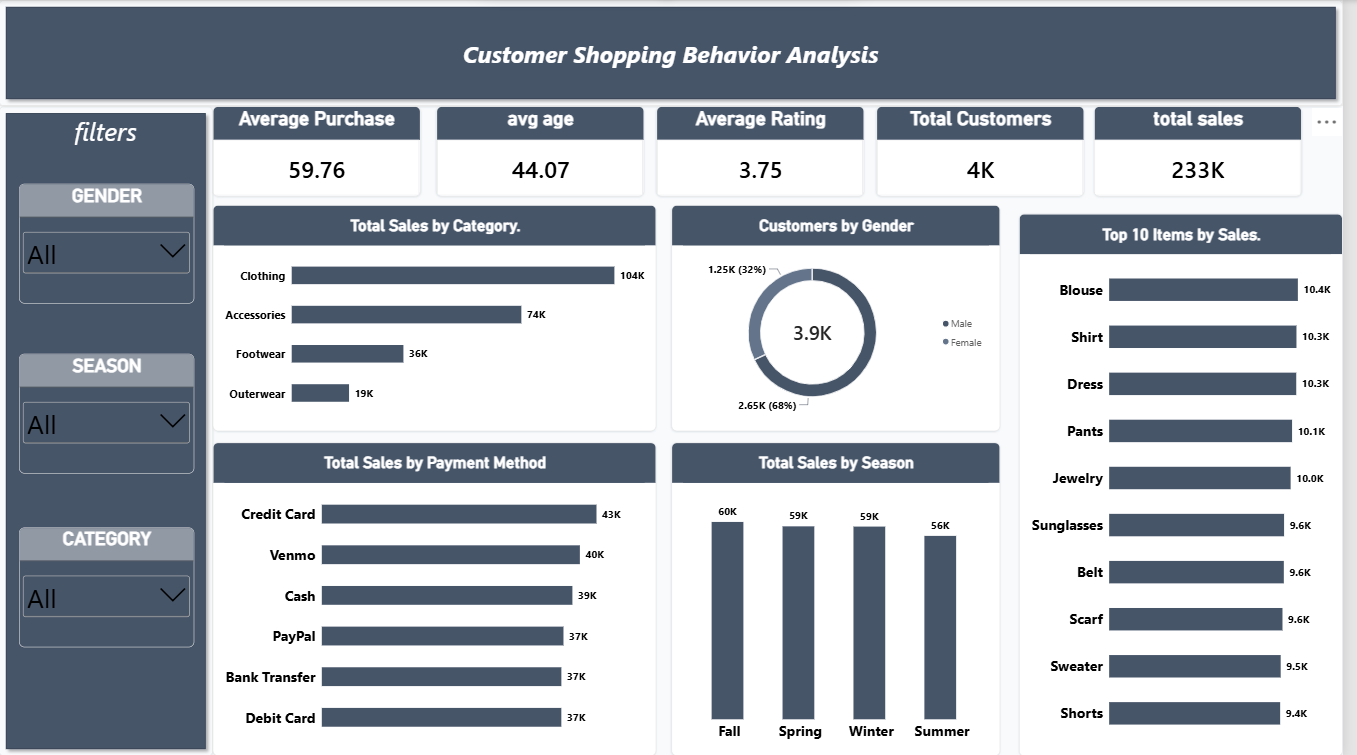

This screenshot's page, from the dashboard's own definition file:
{"tool":"powerbi","page":{"name":"Overview","canvas":[1920,1080],"ordinal":0},"visuals":[{"type":"shape","box":[0,0,1919.7,151.8],"z":0},{"type":"shape","box":[0,151.8,305.4,928.6],"z":1000},{"type":"cardVisual","title":"Average Purchase","fields":{"Data":["cleaned_Customer_Shopping.Average Purchase"]},"box":[305.4,151.8,296.4,128.6],"z":2000},{"type":"cardVisual","title":"Avg Age","fields":{"Data":["cleaned_Customer_Shopping.avg age"]},"box":[625,151.8,296.4,128.6],"z":3000},{"type":"cardVisual","title":"Average Rating","fields":{"Data":["cleaned_Customer_Shopping.Average Rating"]},"box":[939.3,151.8,296.4,128.6],"z":4000},{"type":"cardVisual","title":"Total Customers","fields":{"Data":["cleaned_Customer_Shopping.Total Customers"]},"box":[1253.6,151.8,296.4,128.6],"z":5000},{"type":"cardVisual","title":"Total Sales","fields":{"Data":["cleaned_Customer_Shopping.total sales"]},"box":[1564.3,151.8,296.4,128.6],"z":6000},{"type":"clusteredBarChart","title":"Total Sales by Category","fields":{"Category":["cleaned_Customer_Shopping.Category"],"Y":["Sum(cleaned_Customer_Shopping.Purchase Amount (USD))"]},"box":[305.4,292.9,633.9,323.2],"z":7000},{"type":"clusteredColumnChart","title":"Total Sales by Season","fields":{"Category":["cleaned_Customer_Shopping.Season"],"Y":["Sum(cleaned_Customer_Shopping.Purchase Amount (USD))"]},"box":[960.7,632.1,469.6,448.2],"z":8000},{"type":"clusteredBarChart","title":"Top 10 Items by Sales","fields":{"Category":["cleaned_Customer_Shopping.Item Purchased"],"Y":["Sum(cleaned_Customer_Shopping.Purchase Amount (USD))"]},"box":[1457.2,305.4,462.5,775],"z":9000},{"type":"donutChart","title":"Customers by Gender","fields":{"Category":["cleaned_Customer_Shopping.Gender"],"Y":["CountNonNull(cleaned_Customer_Shopping.Customer ID)"]},"box":[960.7,292.9,469.6,323.2],"z":10000},{"type":"clusteredBarChart","title":"Total Sales by Payment Method","fields":{"Category":["cleaned_Customer_Shopping.Payment Method"],"Y":["Sum(cleaned_Customer_Shopping.Purchase Amount (USD))"]},"box":[305.4,632.1,633.9,448.2],"z":11000},{"type":"slicer","title":"GENDER","fields":{"Values":["cleaned_Customer_Shopping.Gender"]},"box":[28.6,262.5,250,171.4],"z":12000},{"type":"slicer","title":"SEASON","fields":{"Values":["cleaned_Customer_Shopping.Season"]},"box":[28.6,505.4,250,171.4],"z":13000},{"type":"slicer","title":"CATEGORY","fields":{"Values":["cleaned_Customer_Shopping.Category"]},"box":[28.6,753.6,250,171.4],"z":14000},{"type":"pageNavigator","box":[1291.1,51.8,600,50],"z":15000}]}

Visuals, with their boxes in screenshot pixels (x1, y1, x2, y2), scaled from the page's 1920x1080 canvas onto the 1357x755 screenshot:
shape: 0/0/1356/106
shape: 0/106/216/754
"Average Purchase" cardVisual: 216/106/425/196
"Avg Age" cardVisual: 442/106/651/196
"Average Rating" cardVisual: 664/106/873/196
"Total Customers" cardVisual: 886/106/1095/196
"Total Sales" cardVisual: 1106/106/1315/196
"Total Sales by Category" clusteredBarChart: 216/205/664/431
"Total Sales by Season" clusteredColumnChart: 679/442/1011/754
"Top 10 Items by Sales" clusteredBarChart: 1030/213/1356/754
"Customers by Gender" donutChart: 679/205/1011/431
"Total Sales by Payment Method" clusteredBarChart: 216/442/664/754
"GENDER" slicer: 20/184/197/303
"SEASON" slicer: 20/353/197/473
"CATEGORY" slicer: 20/527/197/647
pageNavigator: 913/36/1337/71
